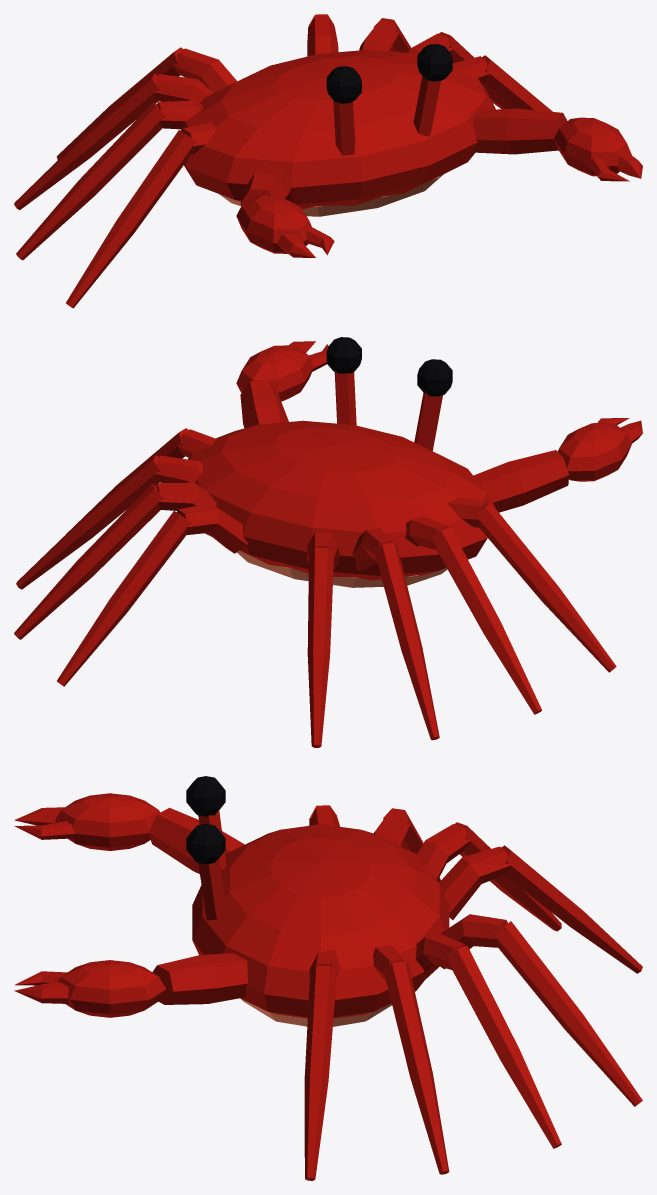
File: pq_crab.obj
3 views of the same model, one above another, from view 1: azimuth 30°, elevation 25°; view 2: azimuth 150°, elevation 25°; view 3: azimuth 270°, elevation 25° (orthographic). The views are drawn at different scales.
Visible parts, largest first — view 1: Crab shell, Crab legs, Crab claws, Crab eyes, Crab shell_1; view 2: Crab legs, Crab shell, Crab claws, Crab eyes, Crab shell_1; view 3: Crab shell, Crab legs, Crab claws, Crab eyes, Crab shell_1.
Part boxes in pixels (left/top/right/bottom): Crab shell: left=180, top=49, right=495, bottom=209; Crab legs: left=14, top=14, right=552, bottom=308; Crab claws: left=236, top=108, right=642, bottom=257; Crab eyes: left=326, top=44, right=452, bottom=103; Crab shell_1: left=219, top=174, right=443, bottom=216; Crab legs: left=14, top=428, right=616, bottom=747; Crab shell: left=188, top=371, right=495, bottom=580; Crab claws: left=236, top=341, right=642, bottom=512; Crab eyes: left=326, top=337, right=452, bottom=396; Crab shell_1: left=237, top=550, right=447, bottom=587; Crab shell: left=192, top=810, right=449, bottom=1018; Crab legs: left=304, top=805, right=642, bottom=1180; Crab claws: left=14, top=793, right=247, bottom=1017; Crab eyes: left=186, top=776, right=225, bottom=864; Crab shell_1: left=240, top=998, right=391, bottom=1026.
Size of the model in its own units: 0.7246 by 0.279 by 0.6682.
